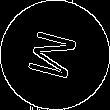M_E: (25, 26, 85, 84)
